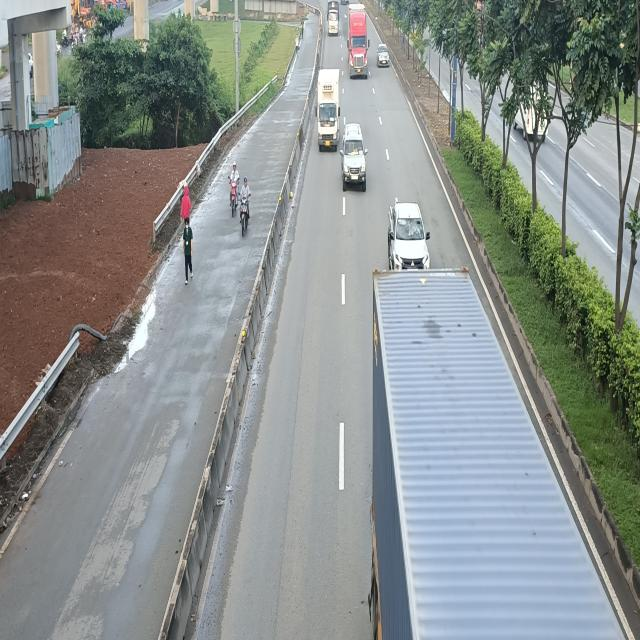car: (341, 122, 368, 189), (376, 43, 392, 66)
container: (365, 268, 628, 638), (348, 4, 370, 80)
truck: (316, 68, 341, 152), (326, 1, 339, 37)
